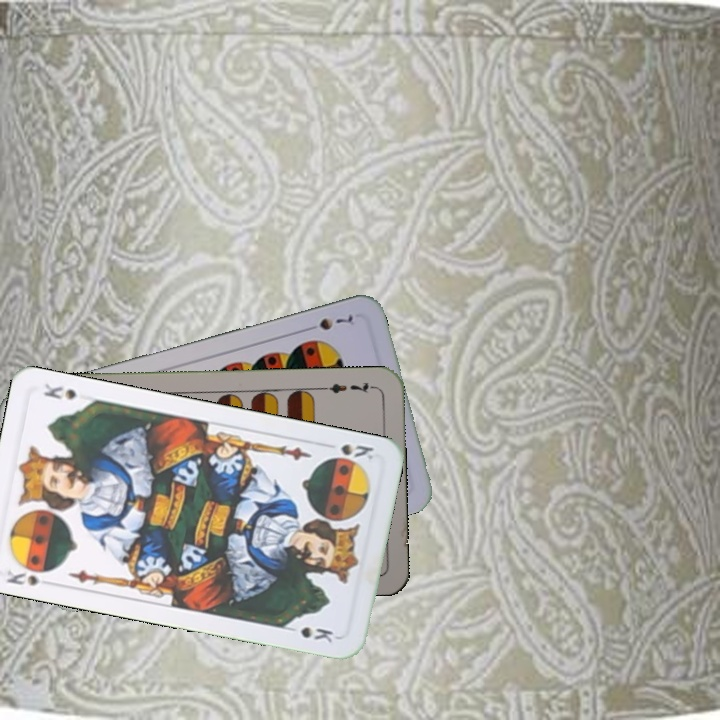E7: (319, 378, 378, 396)
S7: (300, 311, 356, 334)
SK: (2, 565, 57, 589), (336, 439, 376, 463)
